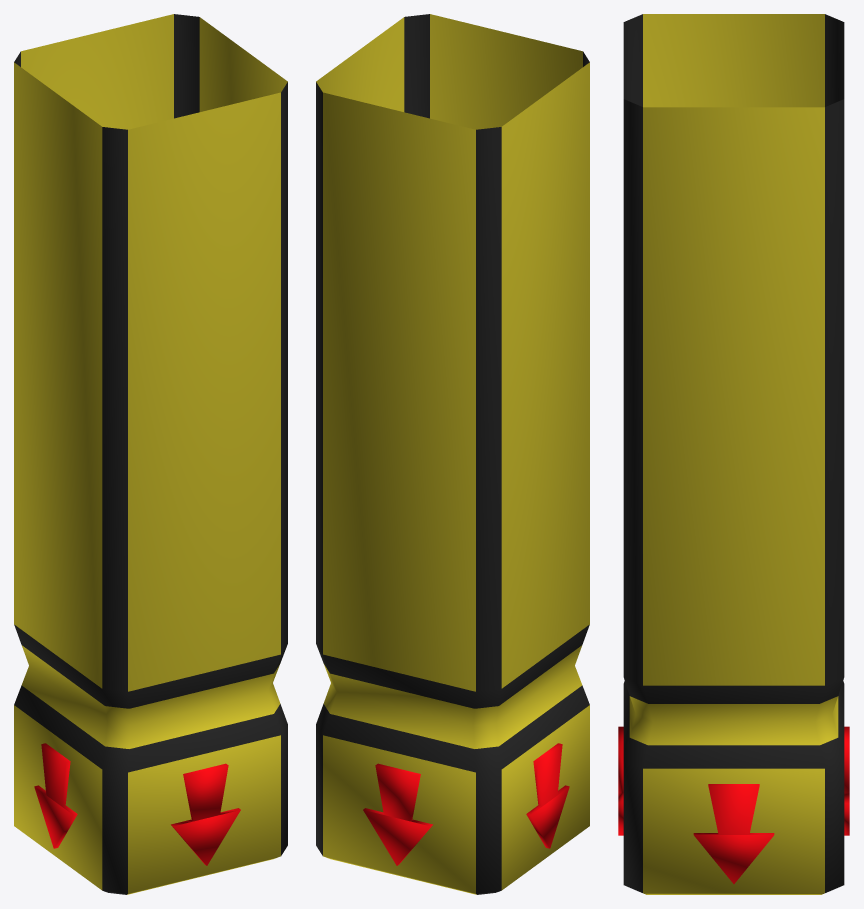
The model's file is escotilha.fbx.
3 views of the same model, side by side, from view 1: azimuth 30°, elevation 25°; view 2: azimuth 150°, elevation 25°; view 3: azimuth 270°, elevation 25° (orthographic). The views are drawn at different scales.
Parts seen in each view (by area): view 1: Escotilha; view 2: Escotilha; view 3: Escotilha.
Part boxes in pixels (x1=…): Escotilha: x1=14, y1=14, x2=287, y2=894; Escotilha: x1=316, y1=14, x2=589, y2=894; Escotilha: x1=618, y1=14, x2=849, y2=894.
Size of the model in its own units: 2.1 by 7.92 by 2.1.
